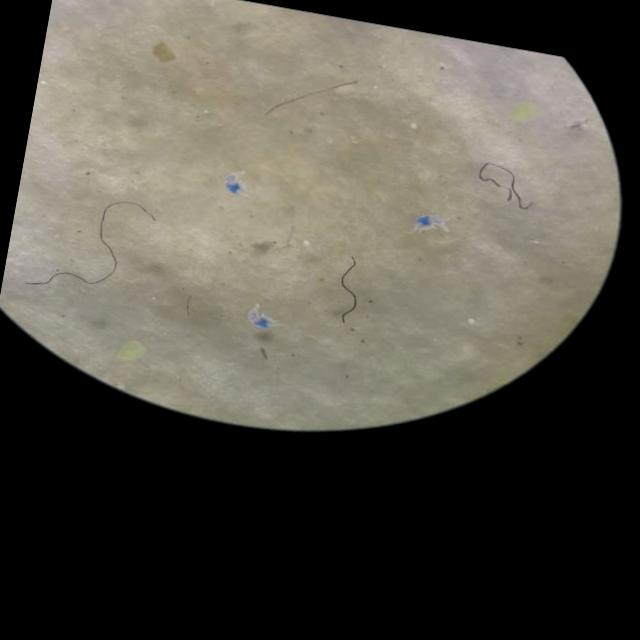fiber: (25, 202, 155, 286), (265, 82, 358, 116), (478, 162, 532, 209), (340, 257, 357, 323)
film: (249, 306, 273, 321), (414, 214, 443, 222), (233, 175, 243, 194)
fragment: (120, 342, 144, 360), (153, 42, 175, 61), (513, 103, 535, 121)
pellet: (468, 318, 475, 325), (410, 122, 417, 129), (303, 240, 309, 247)
